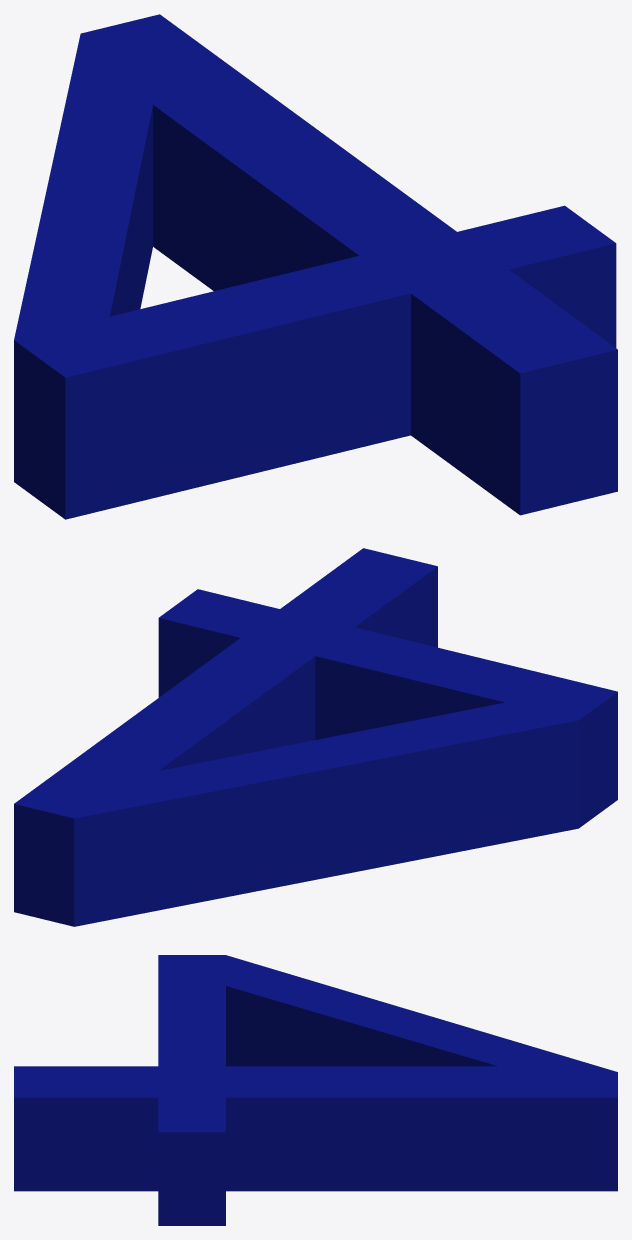
3 renders of one model, top to bottom at view 1: azimuth 30°, elevation 25°; view 2: azimuth 150°, elevation 25°; view 3: azimuth 270°, elevation 25°, orthographic. The views are drawn at different scales.
Visible parts, largest first — view 1: TextPlus056; view 2: TextPlus056; view 3: TextPlus056.
Part boxes in pixels (box(x1,y1,x2,y2)): TextPlus056: box(14, 14, 617, 519); TextPlus056: box(14, 548, 617, 926); TextPlus056: box(14, 955, 617, 1225).
Size of the model in its own units: 17.8 by 4.38 by 25.64.
